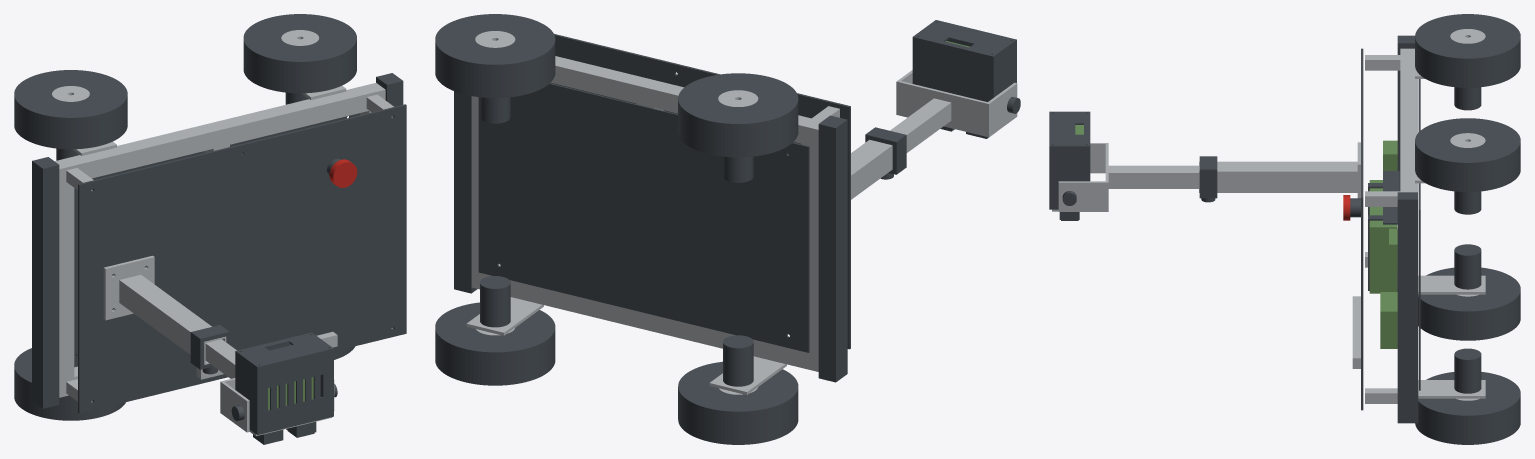
File: AgriBot_complete.glb
3 views of the same model, side by side, from view 1: azimuth 30°, elevation 25°; view 2: azimuth 150°, elevation 25°; view 3: azimuth 270°, elevation 25° (orthographic). The views are drawn at different scales.
Visible parts, largest first — view 1: removable_deck, long_rail_185, tire_-210_237.5, tire_210_237.5, bumper_-315, compute_enclosure, outer_mast, cross_rail_-285, tire_-210_-237.5, compute_rear_lid, mast_base, underbody_skid (+7 smaller); view 2: underbody_skid, tire_-210_237.5, tire_210_237.5, bumper_-315, tire_210_-237.5, tire_-210_-237.5, removable_deck, long_rail_-185, compute_enclosure, long_rail_185, bumper_315, camera_tilt_bracket (+12 smaller); view 3: tire_-210_237.5, tire_210_237.5, tire_210_-237.5, tire_-210_-237.5, bumper_315, outer_mast, long_rail_185, inner_mast, camera_tilt_bracket, battery, compute_enclosure, compute_rear_lid (+17 smaller).
Part boxes in pixels (<box>): removable_deck: <box>78,104,406,413</box>; long_rail_185: <box>54,83,385,186</box>; tire_-210_237.5: <box>14,70,127,149</box>; tire_210_237.5: <box>243,14,356,93</box>; bumper_-315: <box>32,157,59,408</box>; compute_enclosure: <box>235,343,333,434</box>; outer_mast: <box>119,274,226,364</box>; cross_rail_-285: <box>59,184,74,380</box>; tire_-210_-237.5: <box>14,348,125,420</box>; compute_rear_lid: <box>235,332,333,368</box>; mast_base: <box>103,255,154,320</box>; underbody_skid: <box>74,113,359,367</box>; underbody_skid: <box>478,83,809,352</box>; tire_-210_237.5: <box>678,73,798,157</box>; tire_210_237.5: <box>435,14,555,97</box>; bumper_-315: <box>818,115,847,382</box>; tire_210_-237.5: <box>435,302,555,385</box>; tire_-210_-237.5: <box>678,361,798,444</box>; removable_deck: <box>550,34,850,349</box>; long_rail_-185: <box>471,269,818,371</box>; compute_enclosure: <box>912,39,1016,101</box>; long_rail_185: <box>551,56,822,147</box>; bumper_315: <box>454,91,477,293</box>; camera_tilt_bracket: <box>896,70,1017,137</box>; tire_-210_237.5: <box>1415,14,1520,87</box>; tire_210_237.5: <box>1415,118,1520,192</box>; tire_210_-237.5: <box>1415,372,1520,444</box>; tire_-210_-237.5: <box>1418,267,1520,340</box>; bumper_315: <box>1397,192,1418,423</box>; outer_mast: <box>1199,161,1357,192</box>; long_rail_185: <box>1400,48,1417,192</box>; inner_mast: <box>1108,165,1198,188</box>; camera_tilt_bracket: <box>1058,143,1108,211</box>; battery: <box>1369,180,1397,293</box>; compute_enclosure: <box>1049,148,1090,209</box>; compute_rear_lid: <box>1049,111,1090,147</box>.
Bounding box in the file's own units: 0.66 × 0.53 × 0.803.
